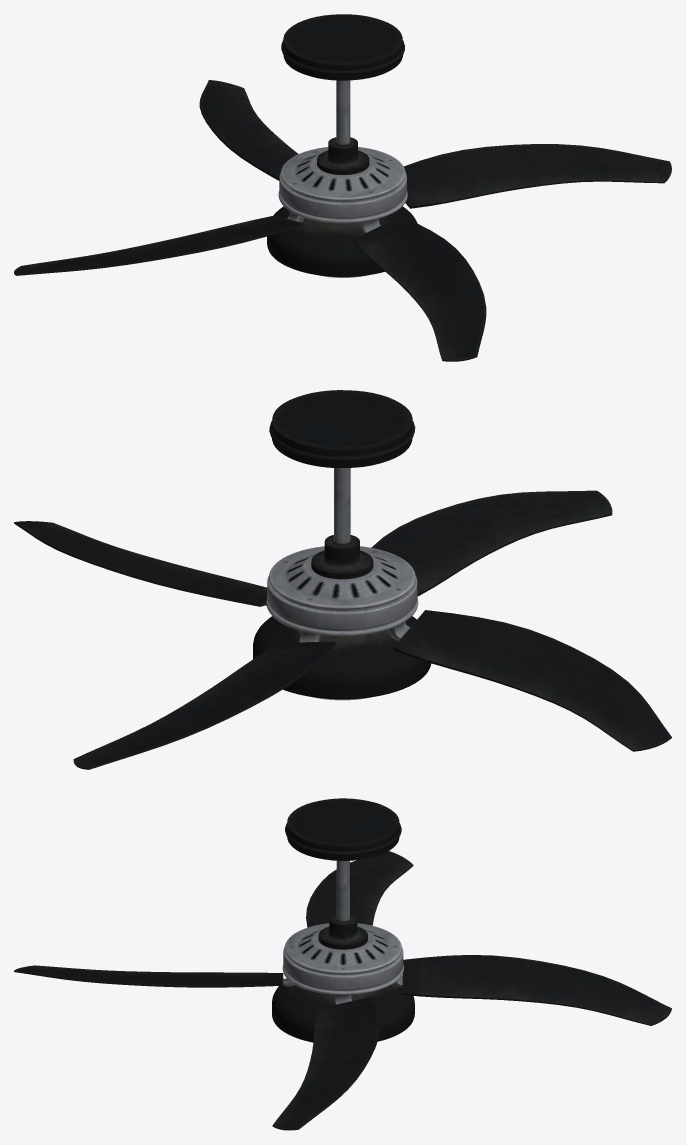
3 views of the same model, one above another, from view 1: azimuth 30°, elevation 25°; view 2: azimuth 150°, elevation 25°; view 3: azimuth 270°, elevation 25° (orthographic). The views are drawn at different scales.
Visible parts, largest first — view 1: ceiling_fan_blades, ceiling_fan; view 2: ceiling_fan_blades, ceiling_fan; view 3: ceiling_fan_blades, ceiling_fan.
Boxes of the visible parts, x1=… form: ceiling_fan_blades: x1=14, y1=80, x2=671, y2=361; ceiling_fan: x1=267, y1=14, x2=417, y2=277; ceiling_fan_blades: x1=14, y1=490, x2=671, y2=769; ceiling_fan: x1=253, y1=390, x2=431, y2=700; ceiling_fan_blades: x1=14, y1=851, x2=671, y2=1130; ceiling_fan: x1=272, y1=798, x2=414, y2=1042.
Bounding box in the file's own units: 1.46 × 0.5163 × 1.46.
1 material, 1 textured.
